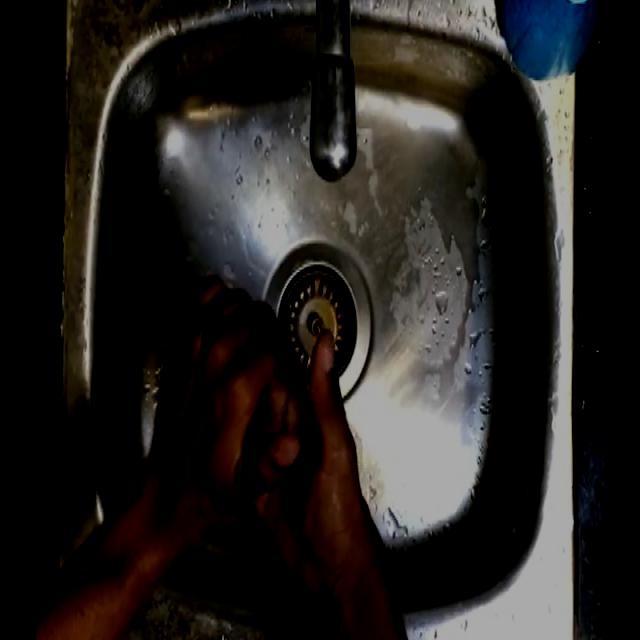step_5: (154, 270, 360, 603)
